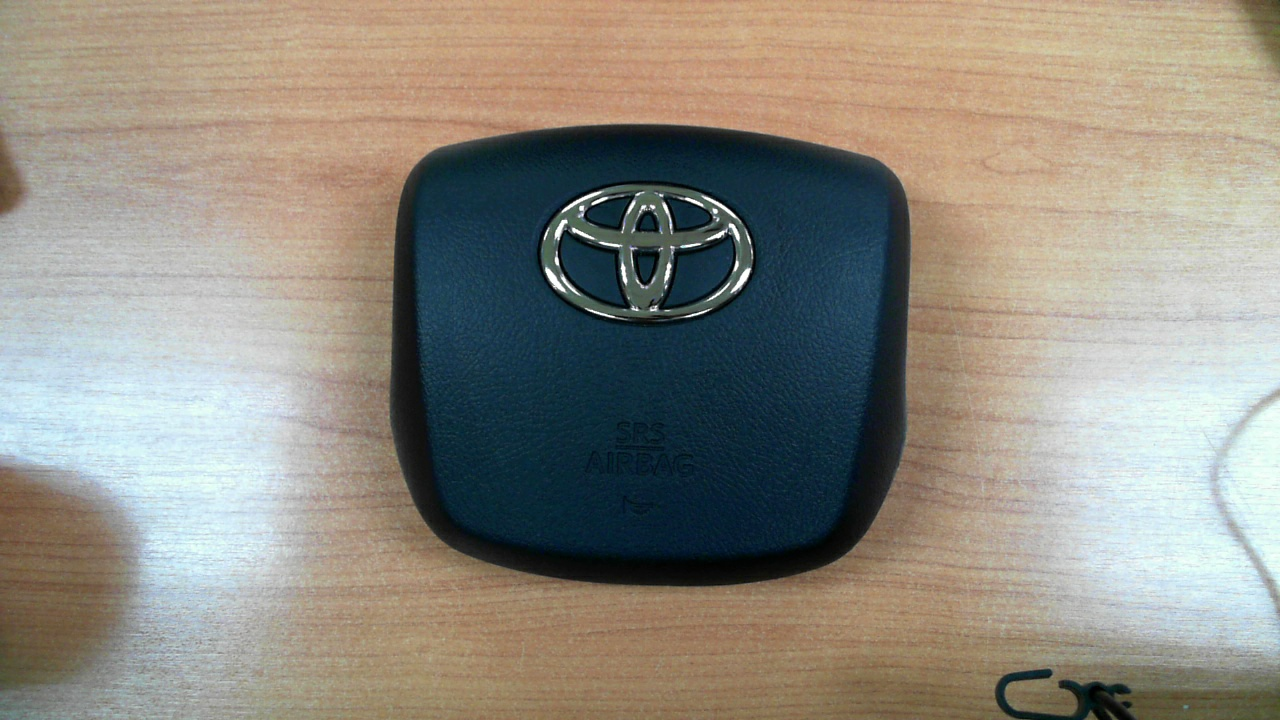Airbag: (352, 93, 947, 626)
